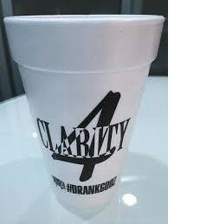paper_cup: (0, 9, 167, 221)
